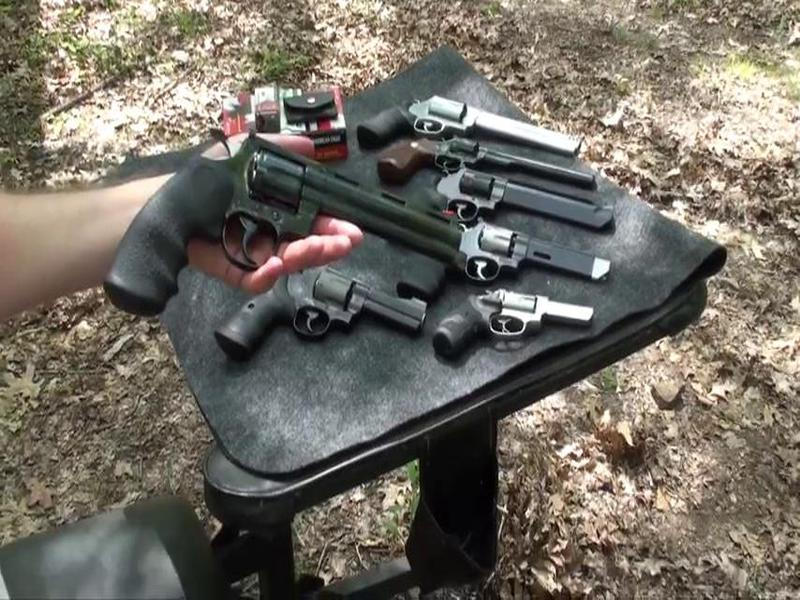Revolver: (102, 128, 471, 359)
